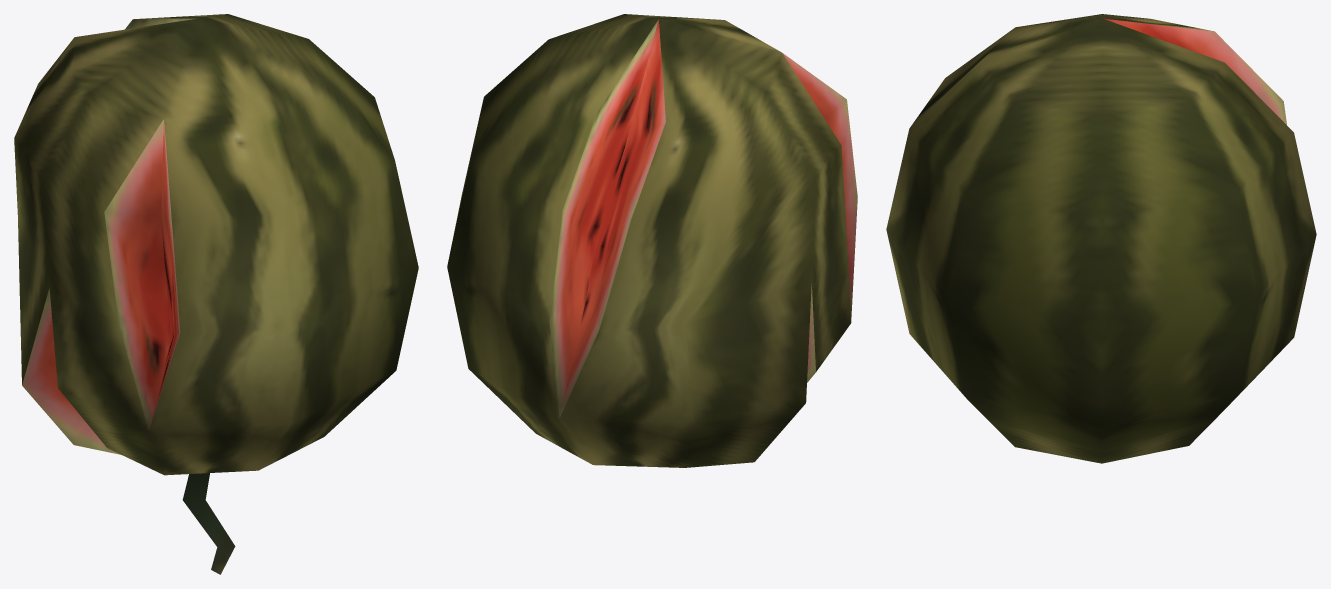
Rendered from Melon C DAMAGE.glb.
3 views of the same model, side by side, from view 1: azimuth 30°, elevation 25°; view 2: azimuth 150°, elevation 25°; view 3: azimuth 270°, elevation 25° (orthographic). The views are drawn at different scales.
Parts seen in each view (by area): view 1: Melon C DAMAGE; view 2: Melon C DAMAGE; view 3: Melon C DAMAGE.
Part boxes in pixels (bbox=[...]): Melon C DAMAGE: bbox=[14, 14, 418, 574]; Melon C DAMAGE: bbox=[447, 14, 857, 467]; Melon C DAMAGE: bbox=[886, 14, 1316, 463].
Size of the model in its own units: 0.9228 by 1.38 by 0.9866.
1 material, 1 textured.
